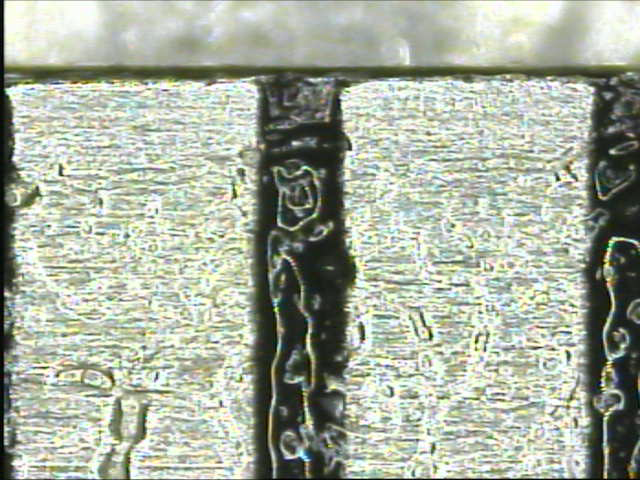line: (252, 83, 347, 474)
